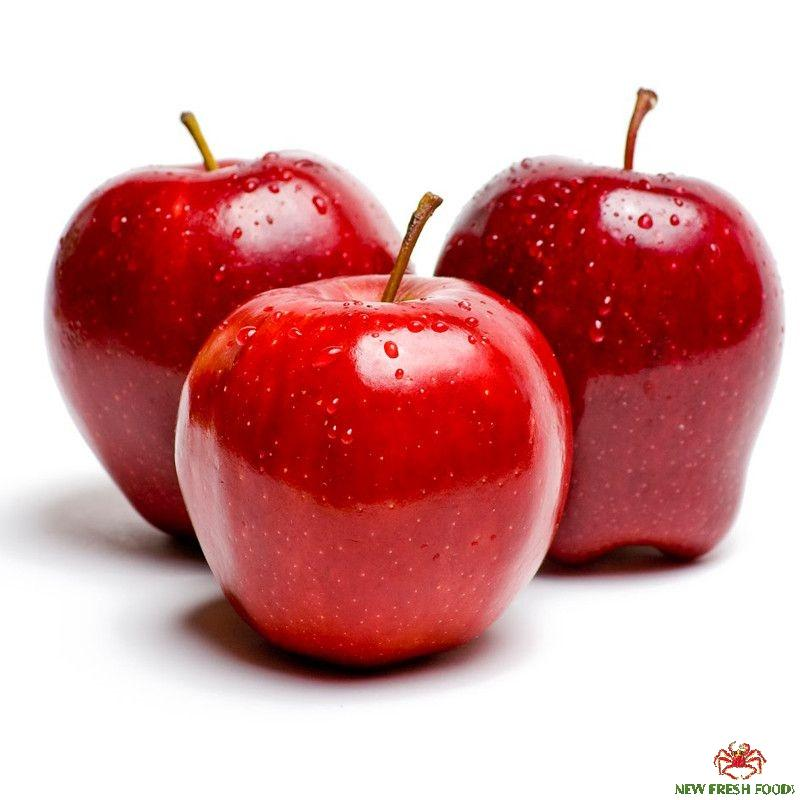apples: (22, 65, 784, 699)
